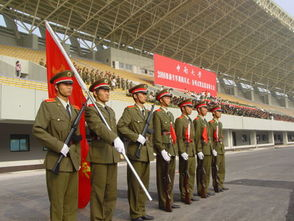10+: (15, 51, 286, 218)
